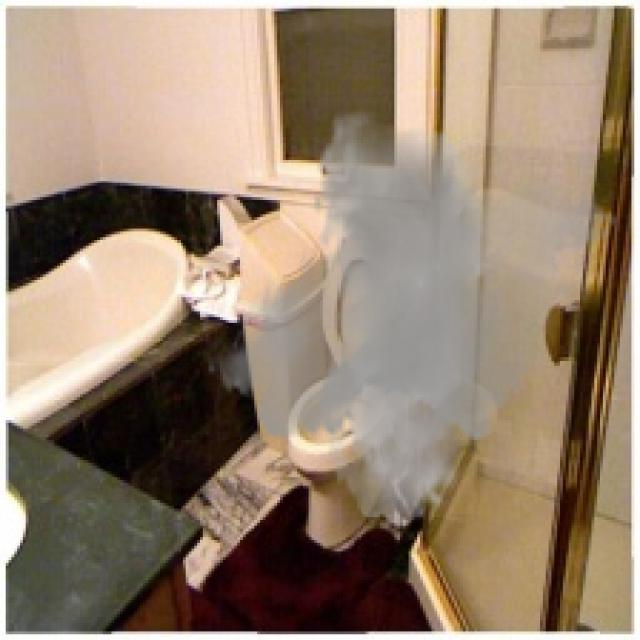Smoke: (205, 108, 620, 526)
